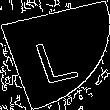L_N: (28, 26, 82, 84)
